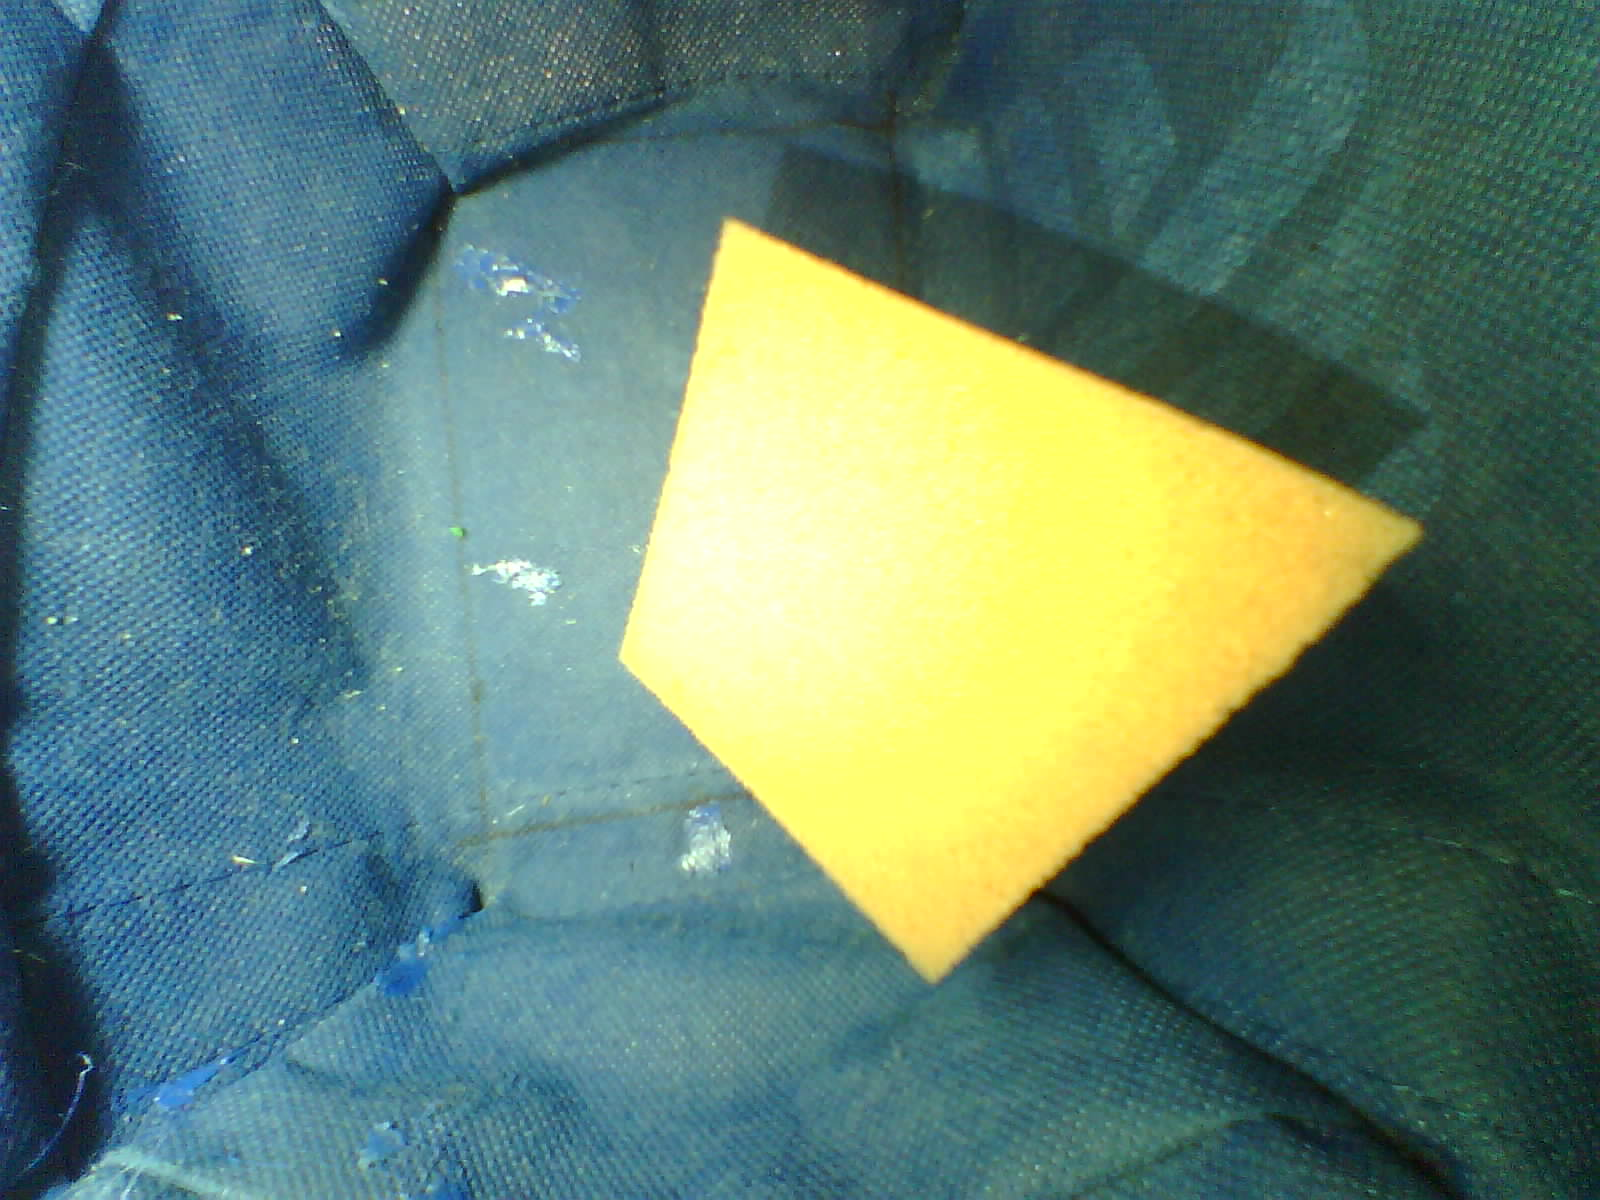cube-soft: (606, 199, 1429, 1007)
